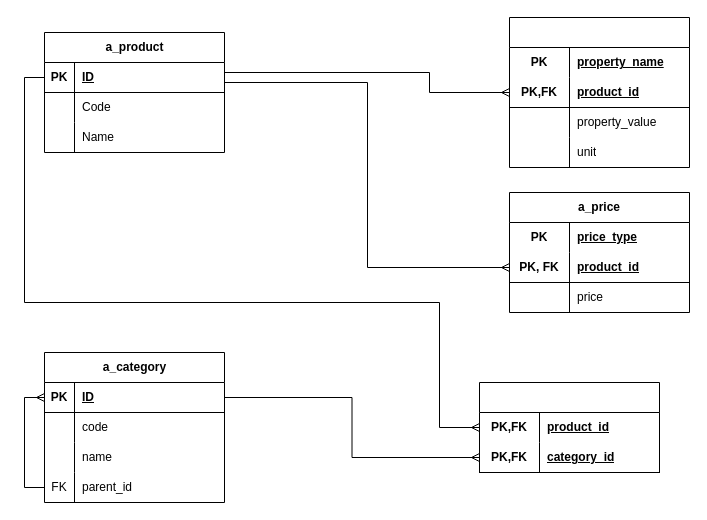
The diagram is 707 pixels wide and 520 high, and some of its shapes have lost their labels. Here are the shapes that lost their labels. From the top down, the box of each, then its label:
(508, 16, 690, 168): a_property
(478, 382, 660, 472): a_category_product
